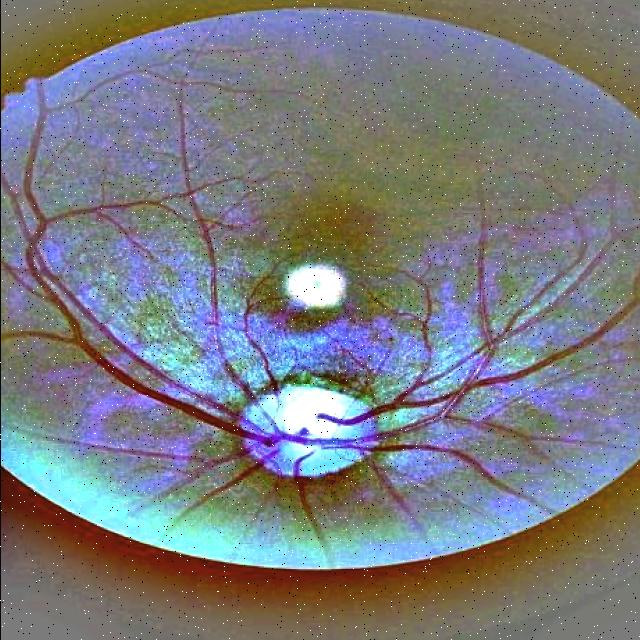Macula: (287, 266, 346, 307)
Nerves: (28, 246, 627, 513), (120, 451, 241, 499), (267, 454, 314, 525)
Optic Disk: (241, 387, 371, 473)
